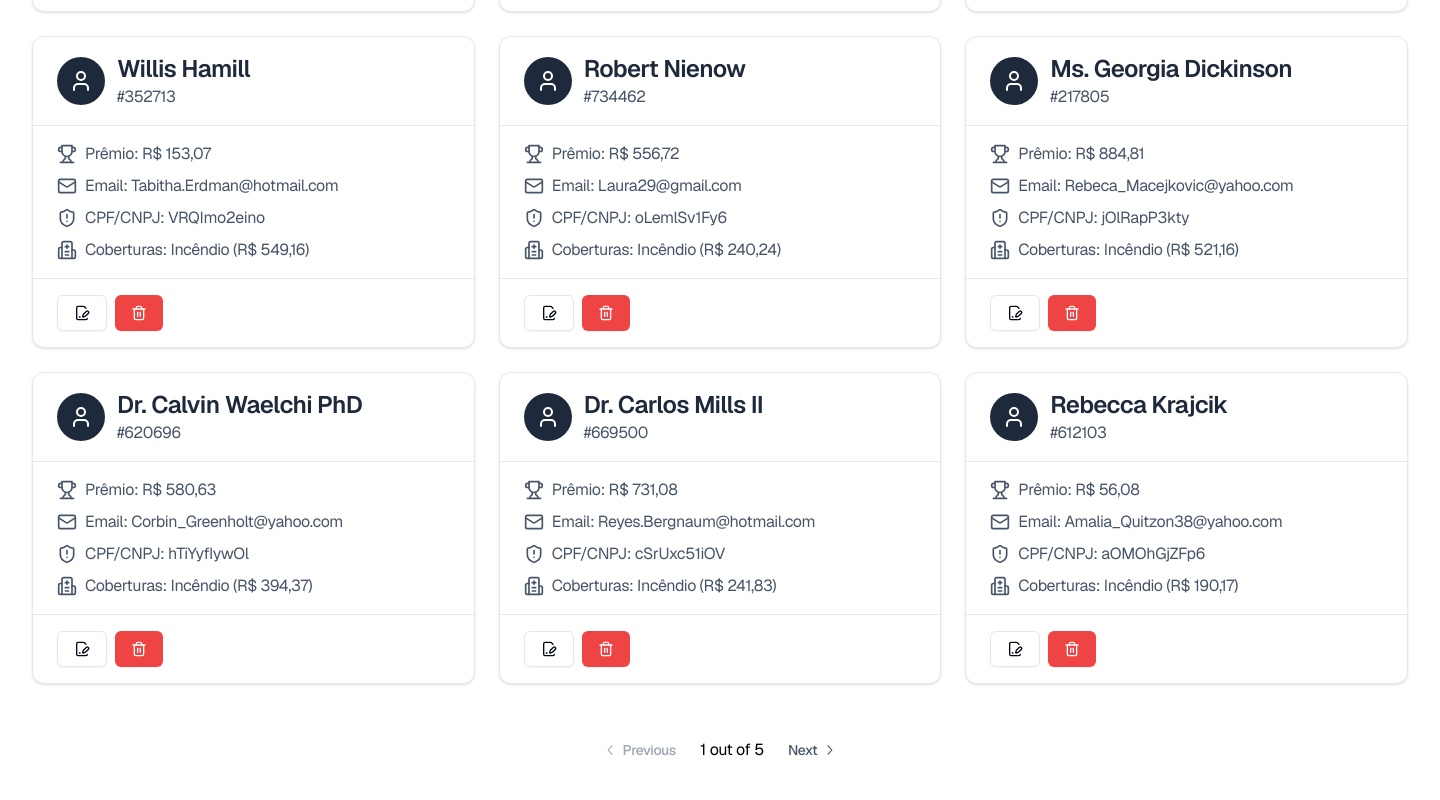
Scenario: pagination › should move to previous page
(page scrolled)
Click the link with test id "pagination-next".
click(813, 750)  # box [788,741,838,759]
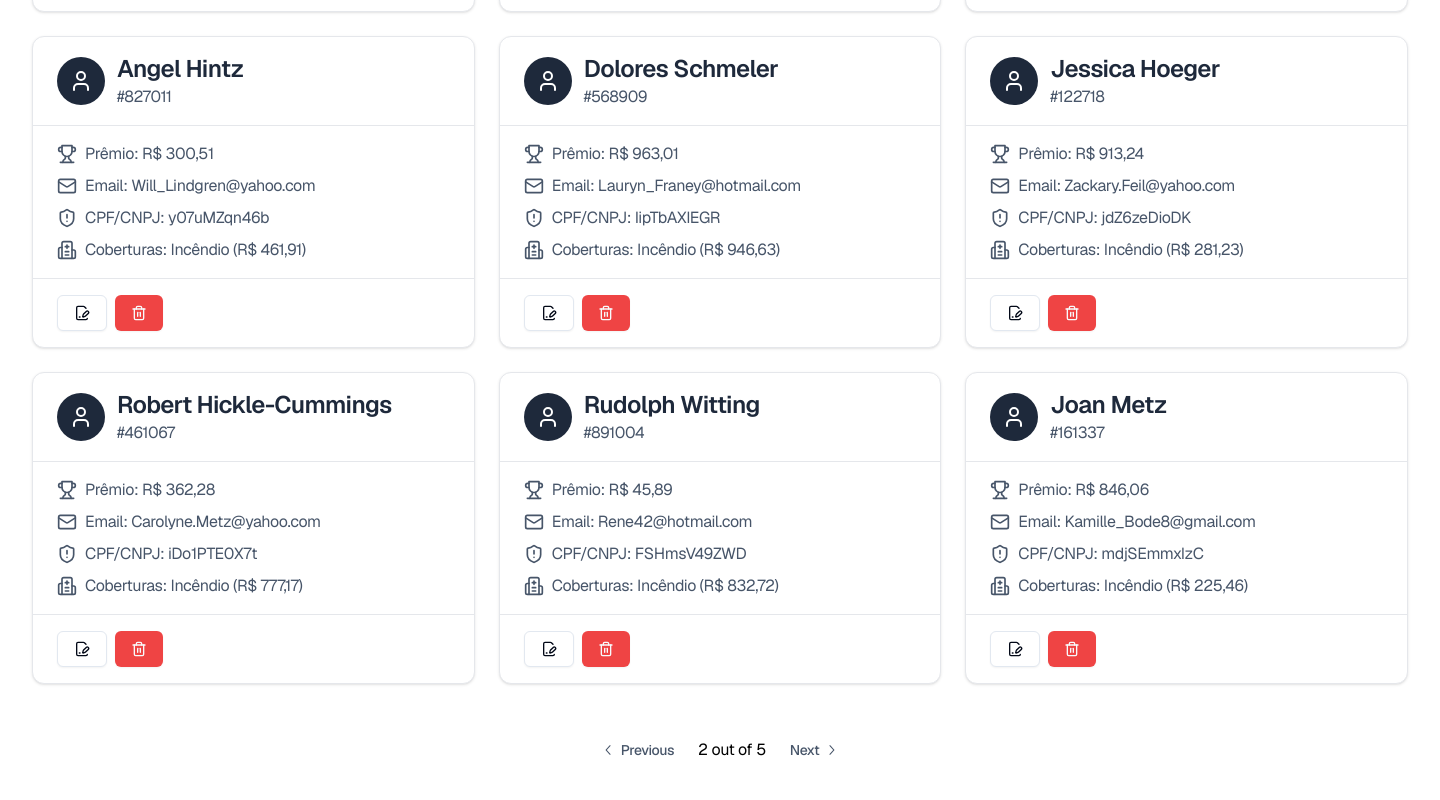
expect the text with test id "pagination-current-page" reads "2": met, box [698,738,708,762]
Click the link with test id "pagination-prev".
click(638, 750)  # box [601,741,674,759]
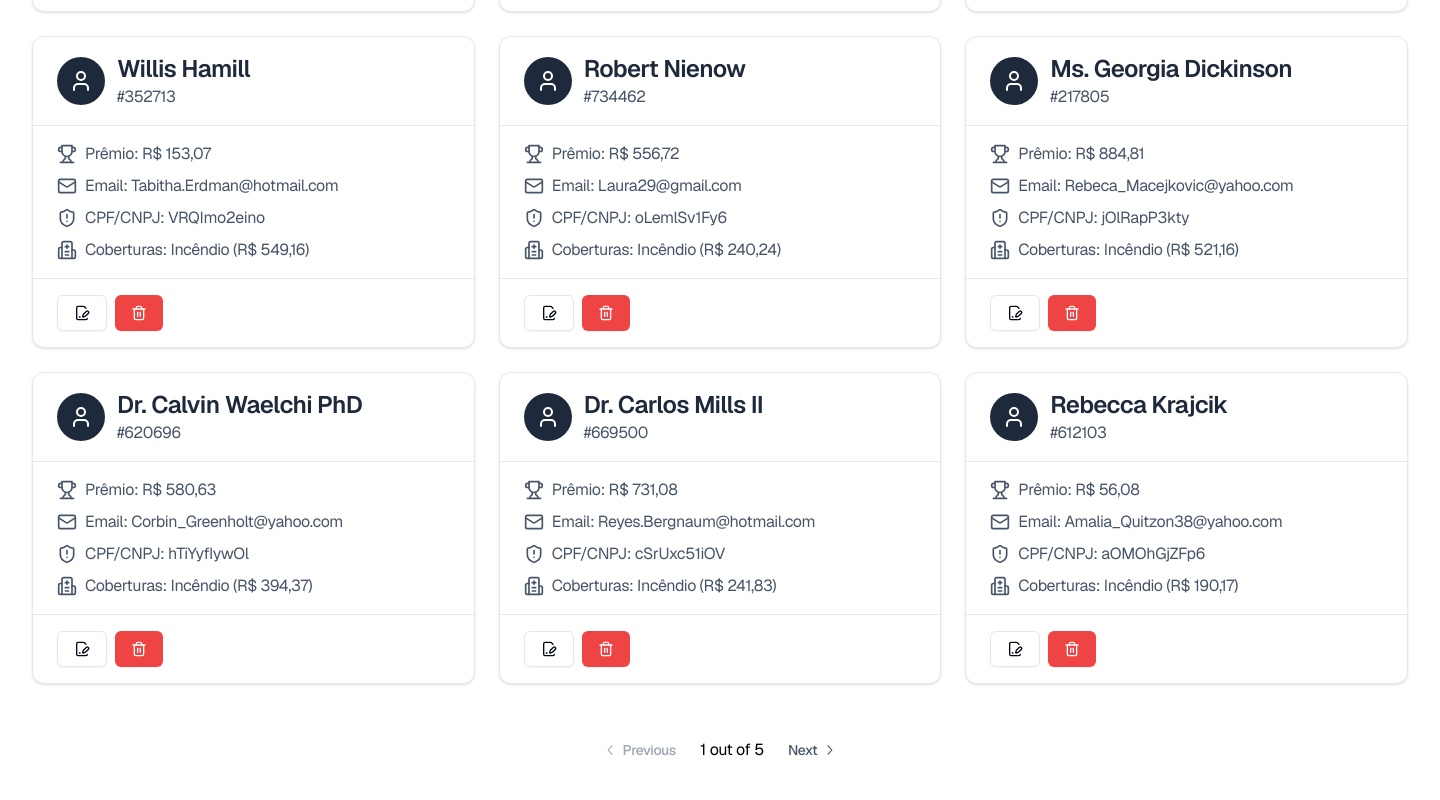
expect the text with test id "pagination-current-page" reads "1": met, box [700,738,706,762]
